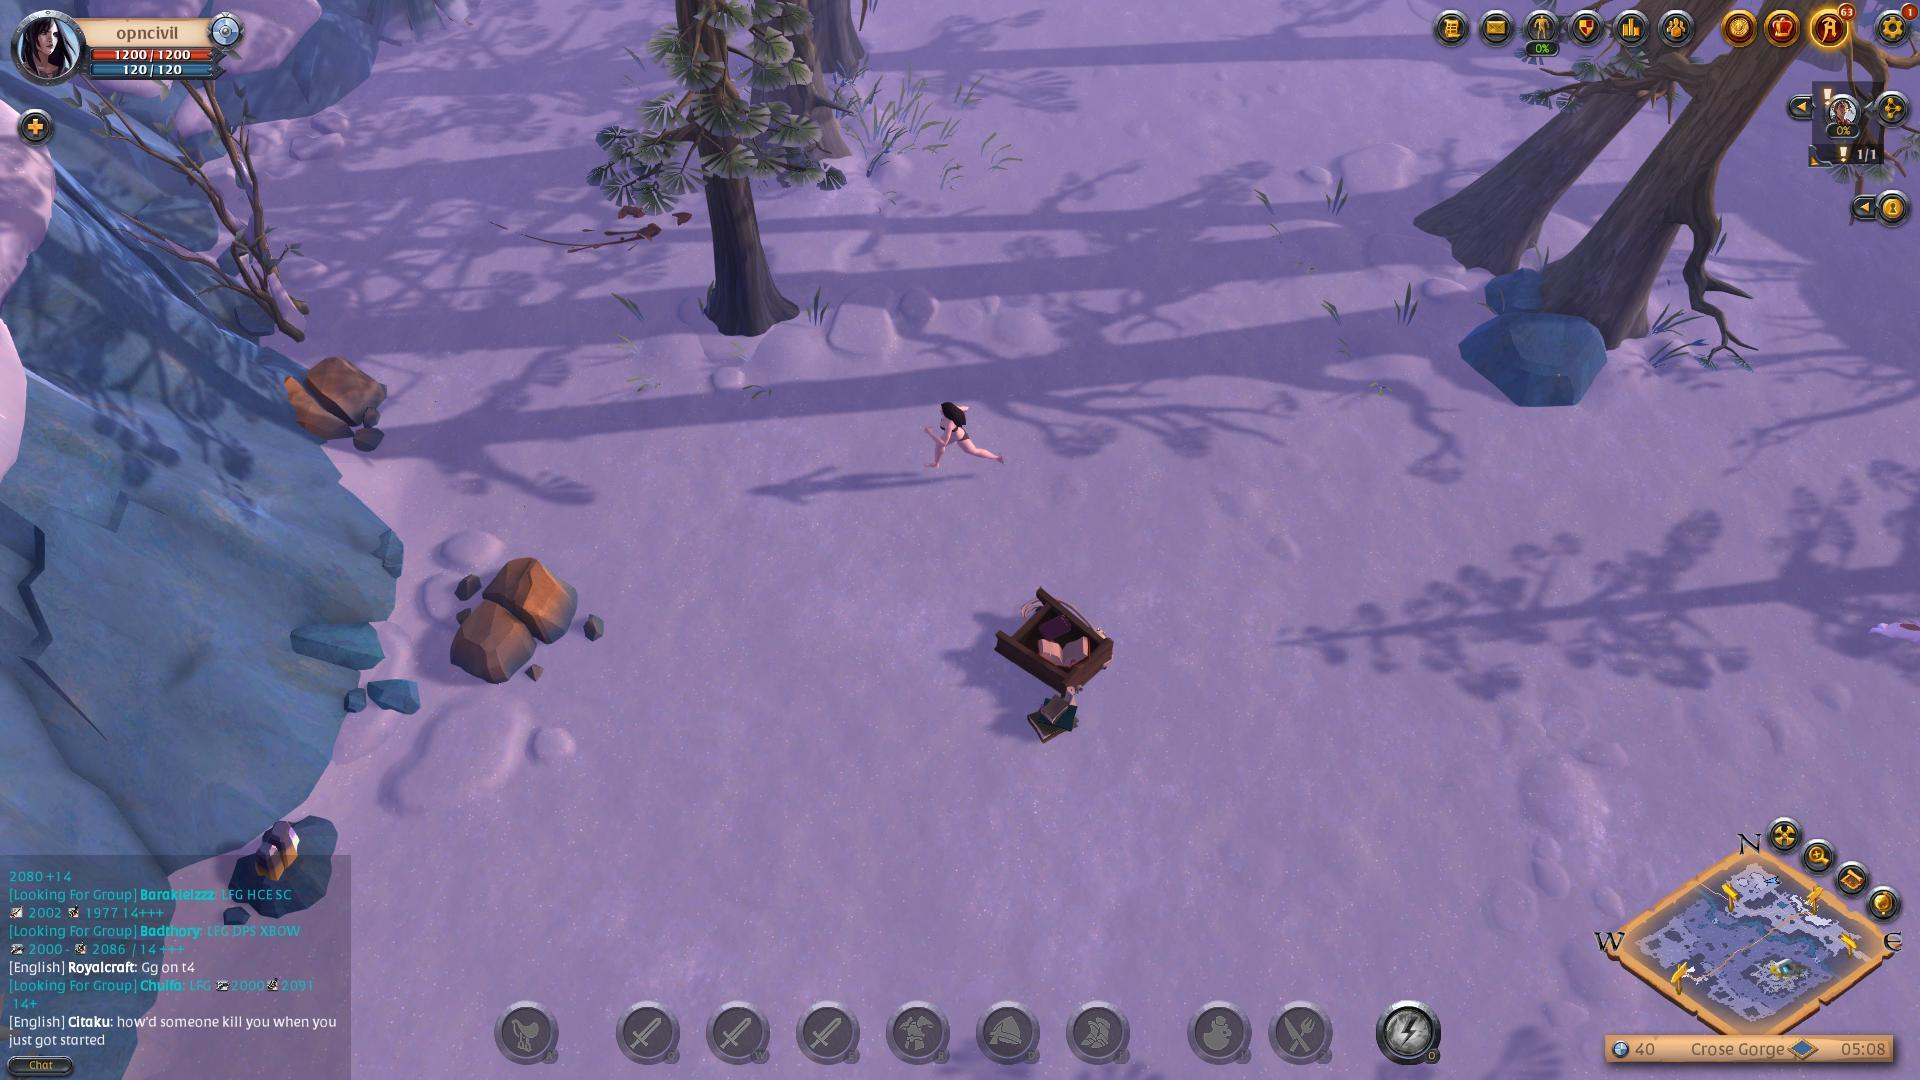limestone: (451, 547, 587, 684), (278, 353, 393, 444)
